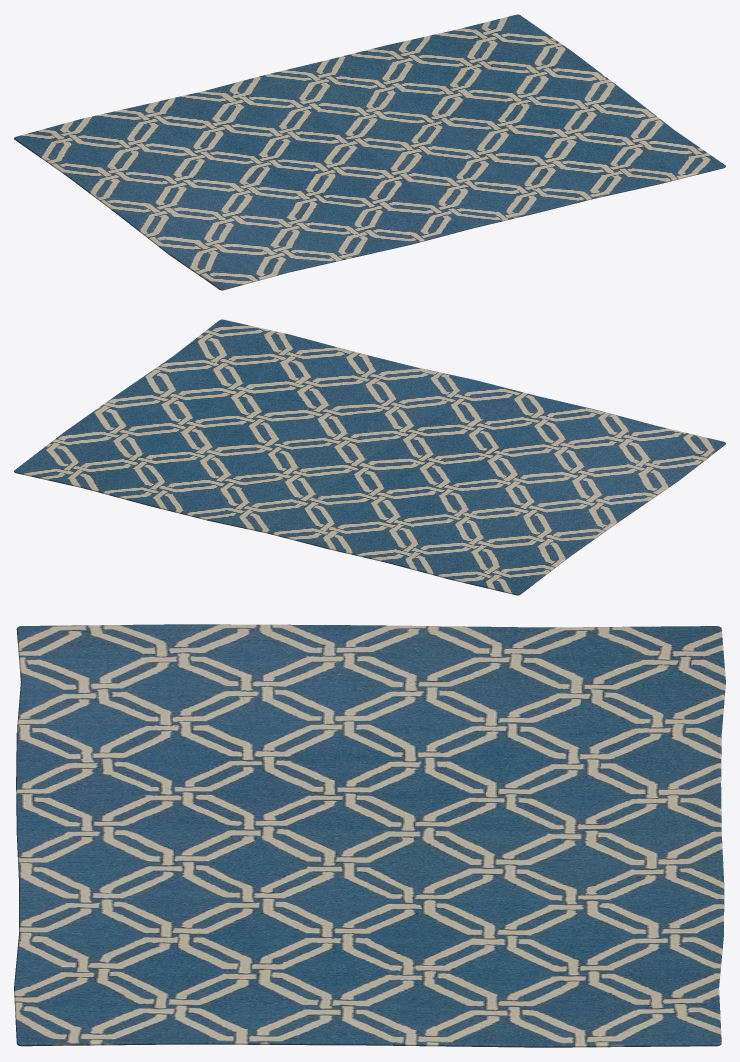
The model's file is abo-B071ZJ6BHB.glb.
3 views of the same model, one above another, from view 1: azimuth 30°, elevation 25°; view 2: azimuth 150°, elevation 25°; view 3: azimuth 270°, elevation 25° (orthographic). The views are drawn at different scales.
Size of the model in its own units: 2.14 by 0.013 by 1.52.
Materials: 1 (1 with a texture image).
